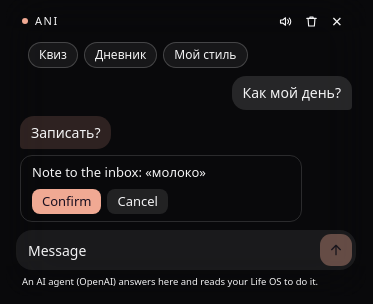
it: AniChat › shows a proposal with Confirm and reads the turn until it is made
Expected: the text "Note to the inbox: «молоко»" is shown, x1=32 y1=163 x2=206 y2=183
Click the button "Confirm". click: (67, 201)
box: x1=32 y1=189 x2=102 y2=214
Wait 1000 ms
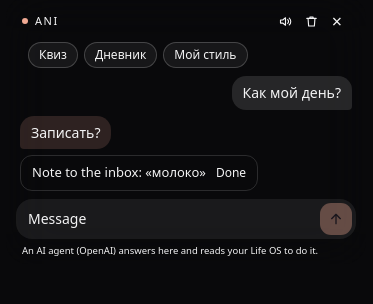
Expected: the text "Done" is shown, x1=216 y1=164 x2=246 y2=182
Expected: the button "Confirm" is gone
